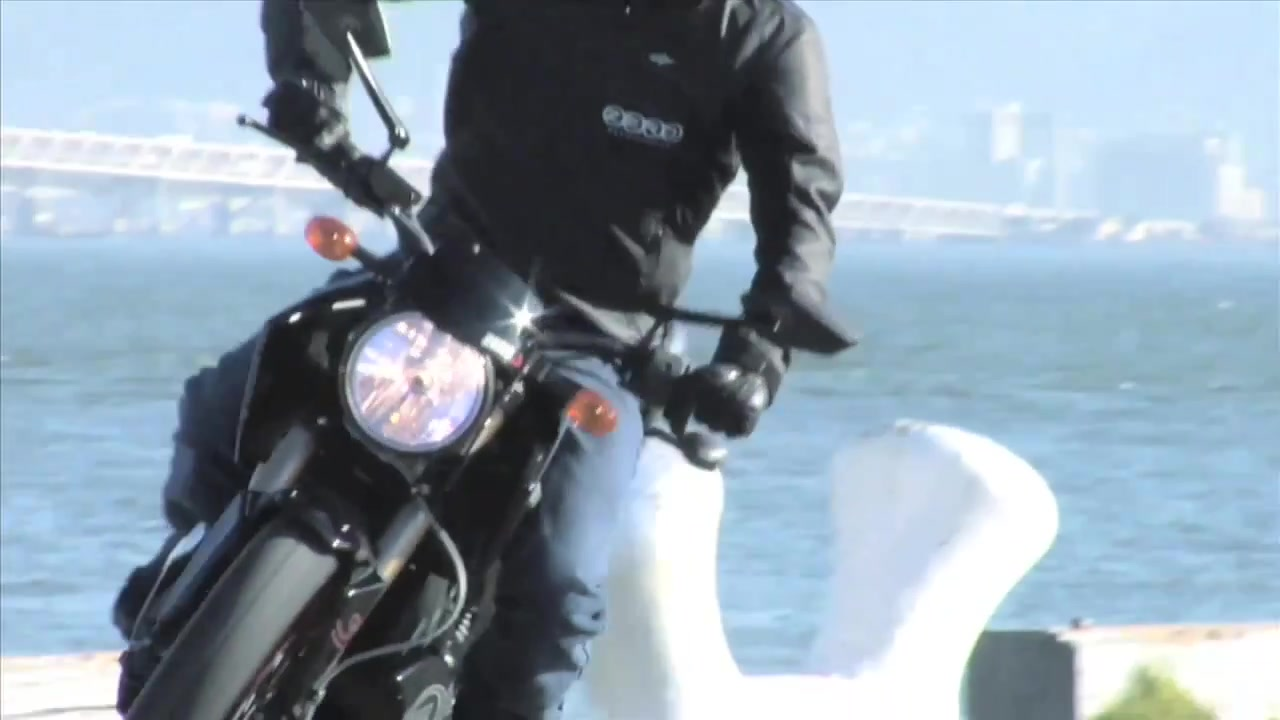motorbike: (112, 17, 861, 720)
